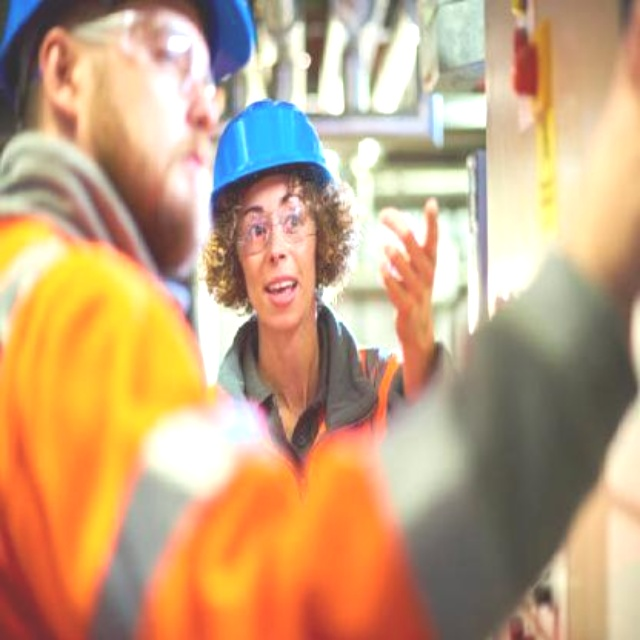blue-helm: (202, 93, 351, 217)
glass: (232, 192, 323, 257)
